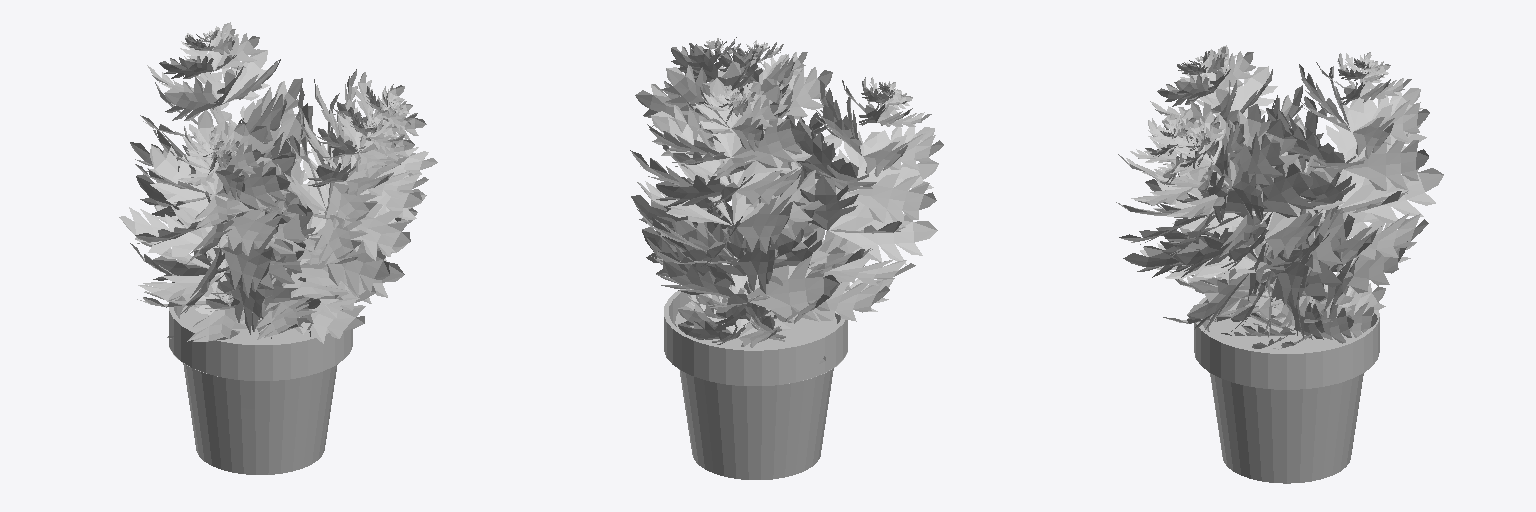
Rendered from house plant3.obj.
3 views of the same model, side by side, from view 1: azimuth 30°, elevation 25°; view 2: azimuth 150°, elevation 25°; view 3: azimuth 270°, elevation 25° (orthographic).
Parts seen in each view (by area): view 1: (null); view 2: (null); view 3: (null).
Boxes of the visible parts, box(x1,y1,x2,y2) form: (null): box(119, 22, 437, 474); (null): box(630, 37, 943, 479); (null): box(1116, 45, 1443, 483).
Bounding box in the file's own units: 57.13 × 74.02 × 56.11.